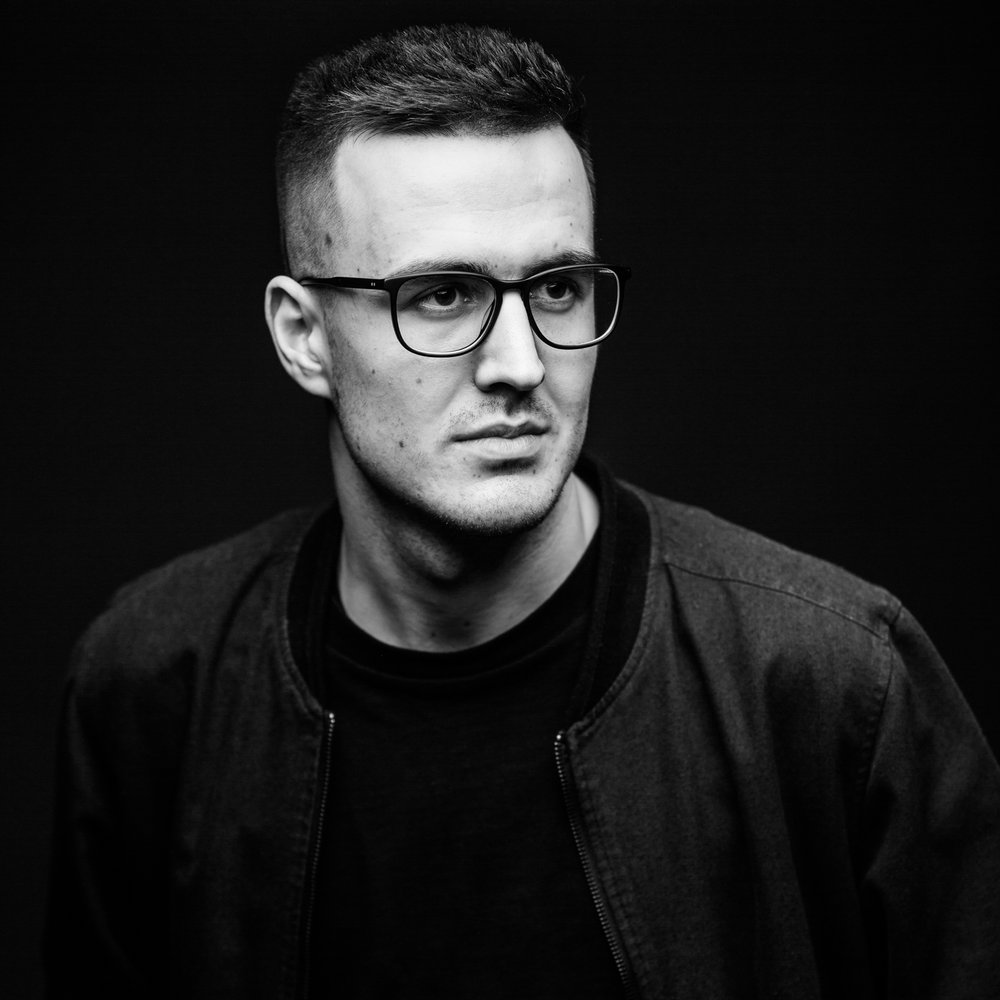bare: (334, 338, 603, 529)
